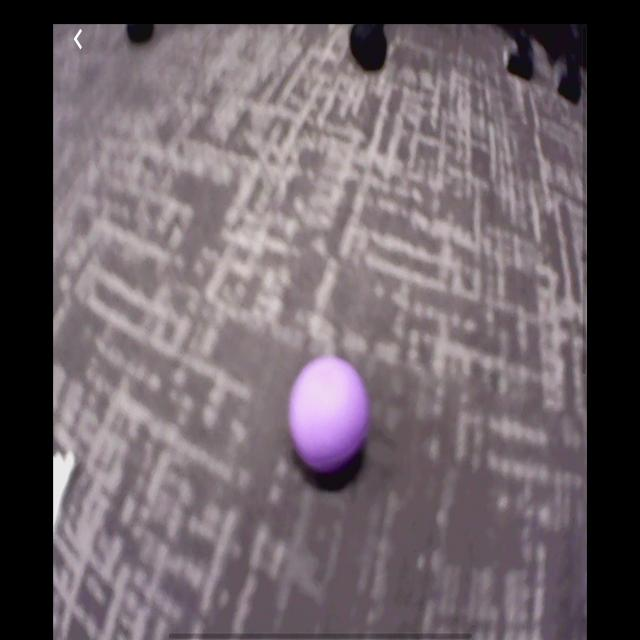ball: (288, 354, 372, 476)
